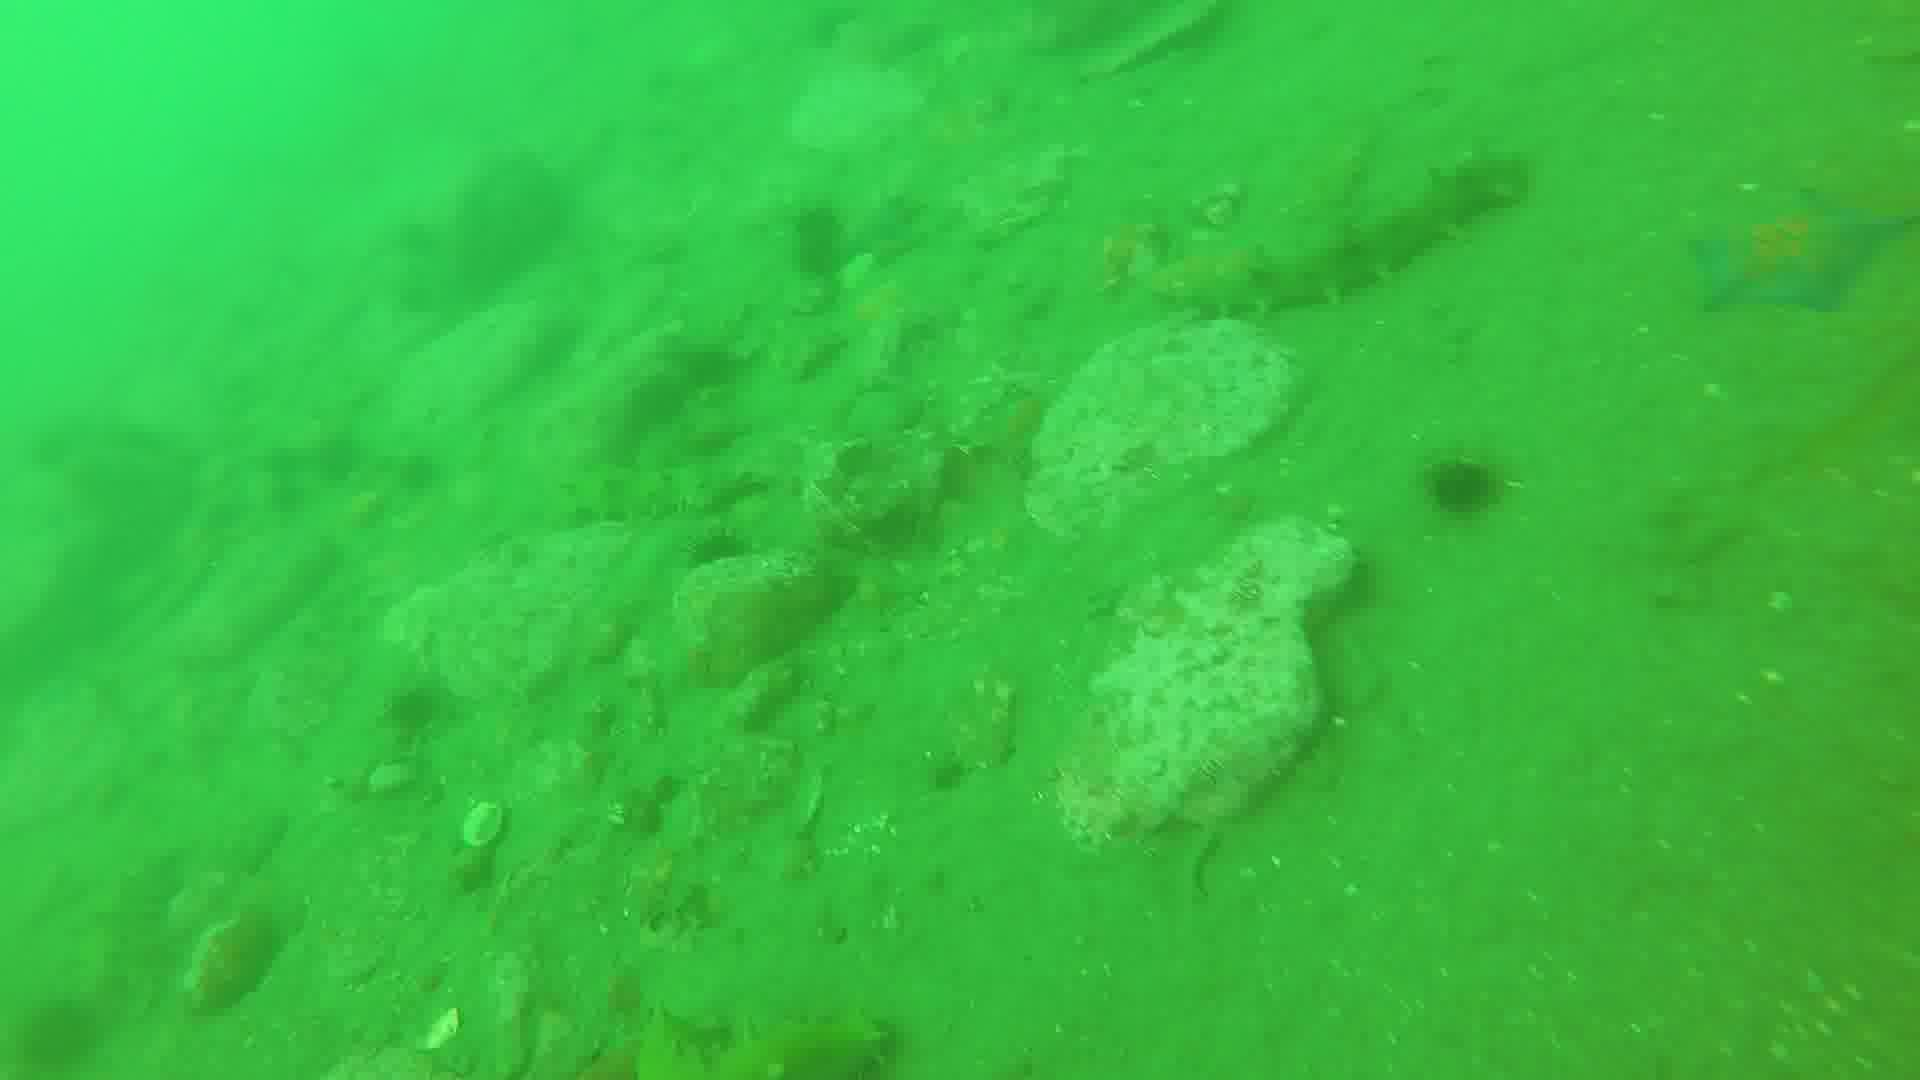echinus: (1424, 452, 1511, 520)
holothurian: (1193, 153, 1538, 319), (691, 1019, 903, 1080)
scallop: (460, 800, 512, 851)
starfish: (1692, 196, 1912, 313)
